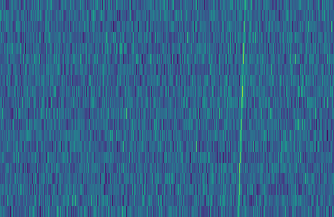signal: (235, 0, 251, 217)
